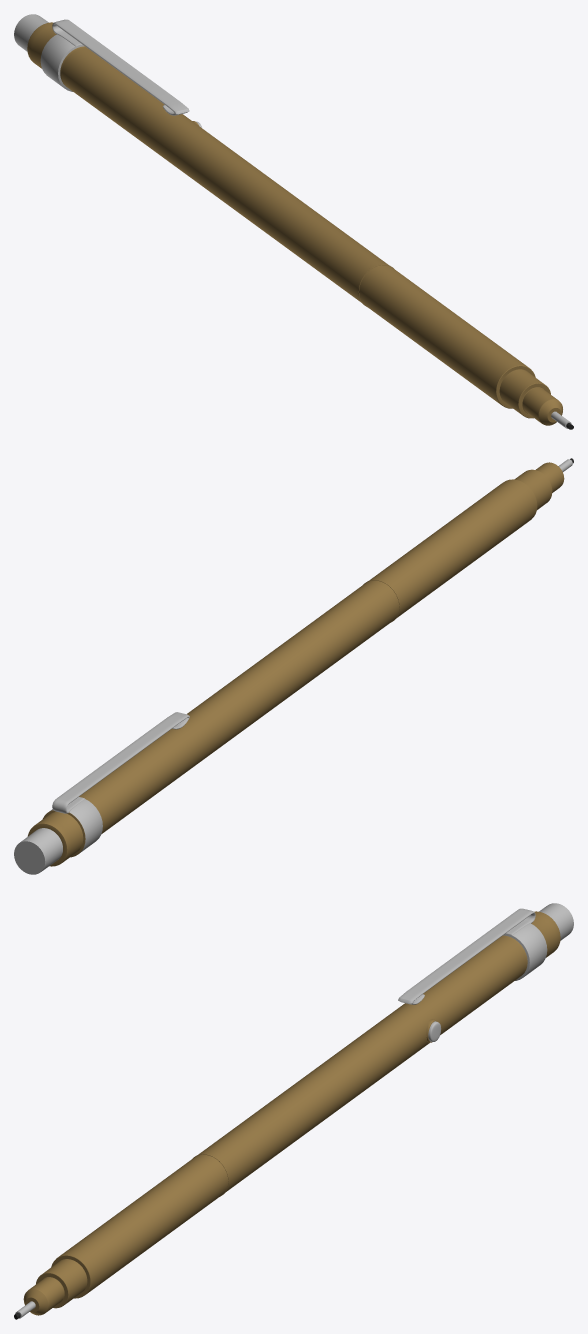
The model's file is Pencil.fbx.
3 views of the same model, one above another, from view 1: azimuth 30°, elevation 25°; view 2: azimuth 150°, elevation 25°; view 3: azimuth 330°, elevation 25° (orthographic).
Visible parts, largest first — view 1: Cube; view 2: Cube; view 3: Cube.
Boxes of the visible parts, <box> form: Cube: <box>14,14,573,429</box>; Cube: <box>14,458,573,874</box>; Cube: <box>14,903,573,1319</box>.
Bounding box in the file's own units: 1.24 × 1.44 × 24.79.
